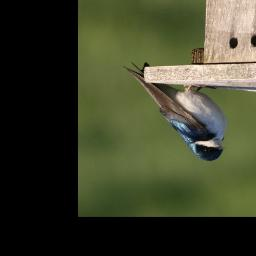Swallow: (122, 56, 228, 162)
